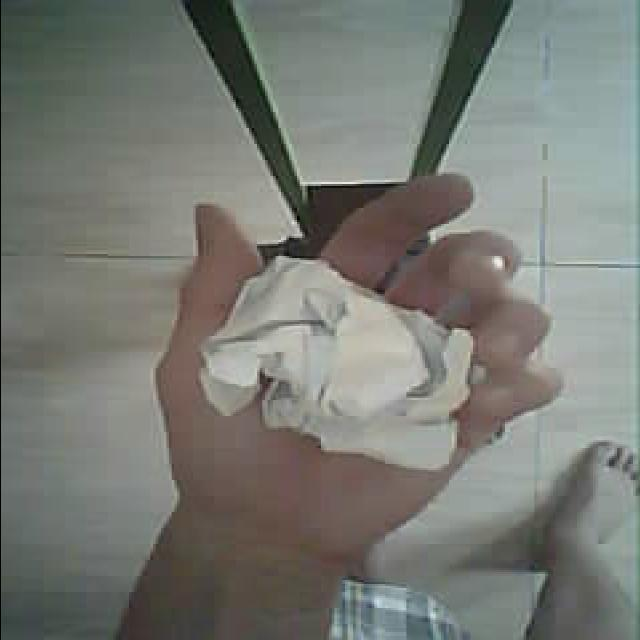Paper: (190, 238, 481, 470)
